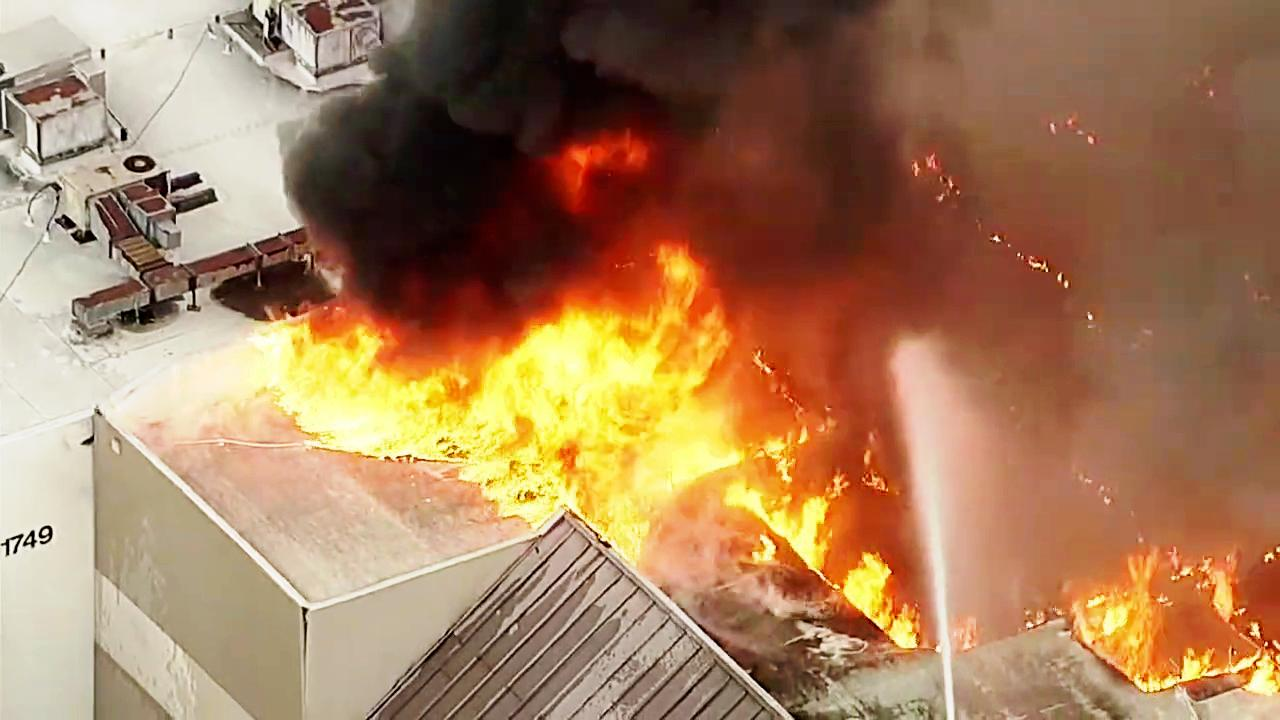fire: (454, 264, 712, 502), (247, 312, 458, 478), (1071, 555, 1277, 672)
smoke: (365, 0, 962, 267)
